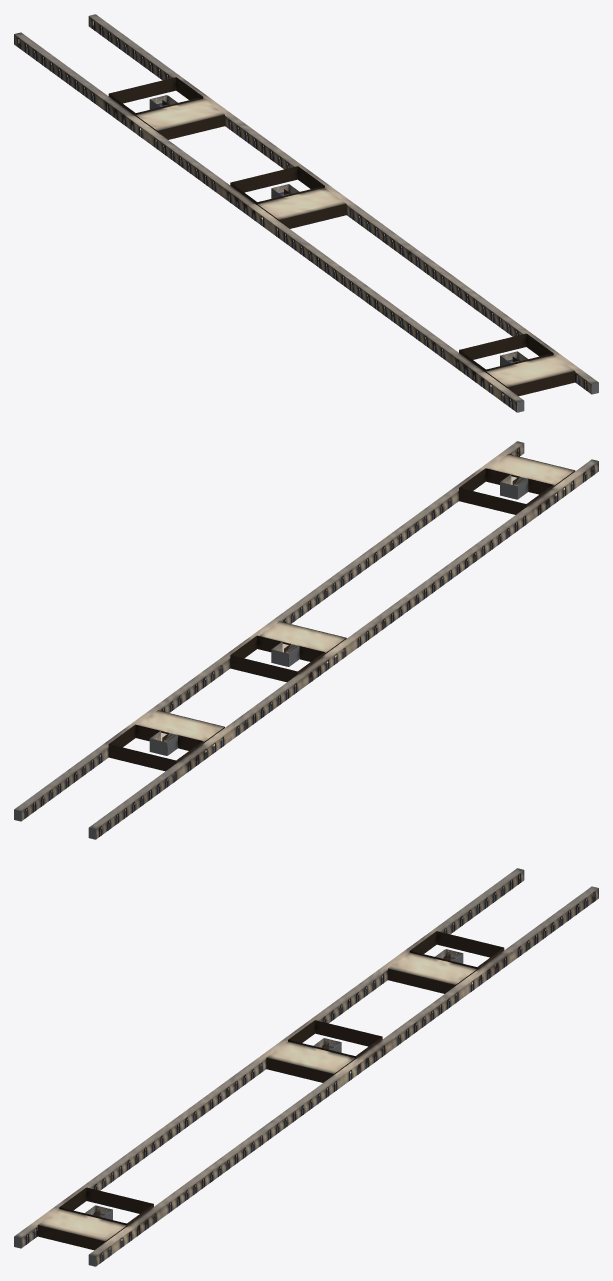
The model's file is deck9.glb.
The picture shows the model from 3 angles, top to bottom: view 1: azimuth 30°, elevation 25°; view 2: azimuth 150°, elevation 25°; view 3: azimuth 330°, elevation 25°; orthographic projection.
Parts seen in each view (by area): view 1: kr_decke, kr_holz, kr_wand, kr_teppich_flur; view 2: kr_decke, kr_wand, kr_holz, kr_teppich_flur; view 3: kr_decke, kr_holz, kr_wand, kr_teppich_flur.
Boxes of the visible parts, <box> form: kr_decke: <box>14,14,598,402</box>; kr_holz: <box>17,19,586,408</box>; kr_wand: <box>14,14,598,412</box>; kr_teppich_flur: <box>18,25,591,408</box>; kr_decke: <box>14,441,598,829</box>; kr_wand: <box>14,441,598,839</box>; kr_holz: <box>25,447,594,836</box>; kr_teppich_flur: <box>21,452,593,836</box>; kr_decke: <box>14,868,598,1256</box>; kr_holz: <box>26,873,595,1262</box>; kr_wand: <box>14,868,598,1266</box>; kr_teppich_flur: <box>21,879,594,1262</box>.
Size of the model in its own units: 19.5 by 3 by 207.
